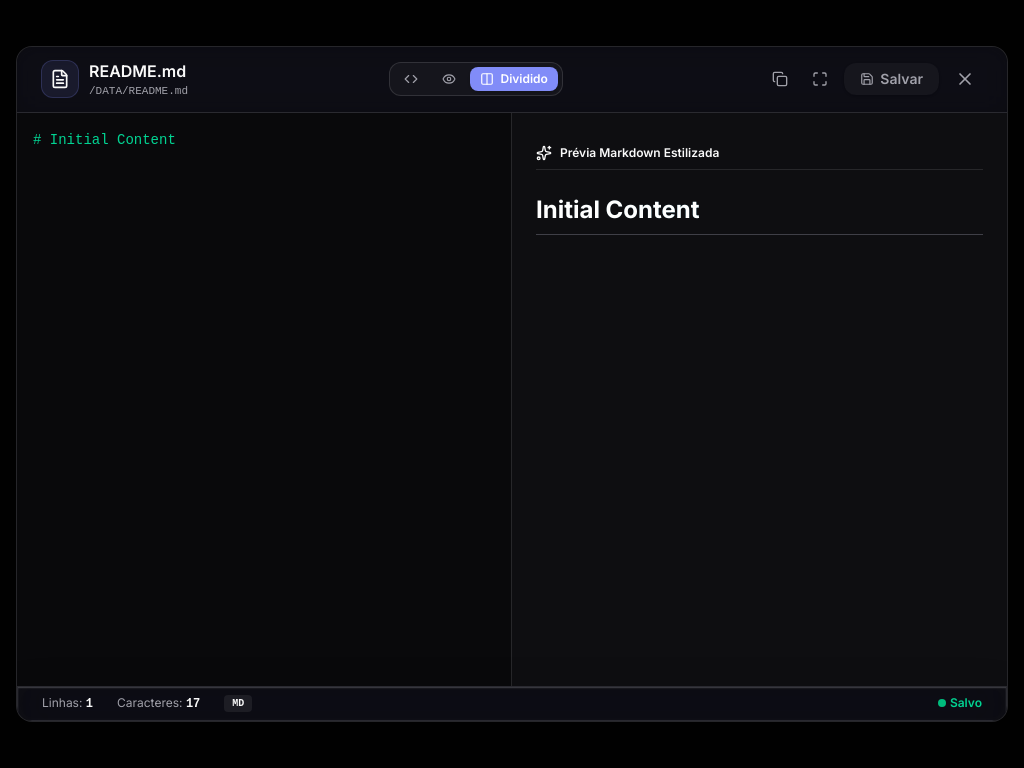
Test case: TextEditorModal Component › handles 412 conflict by opening FileConflictModal and allows reloading from disk
Replace the text in the text box with test id "text-editor-area" with "# My Local Edit". click: [264, 399]
box: [17, 113, 511, 686]
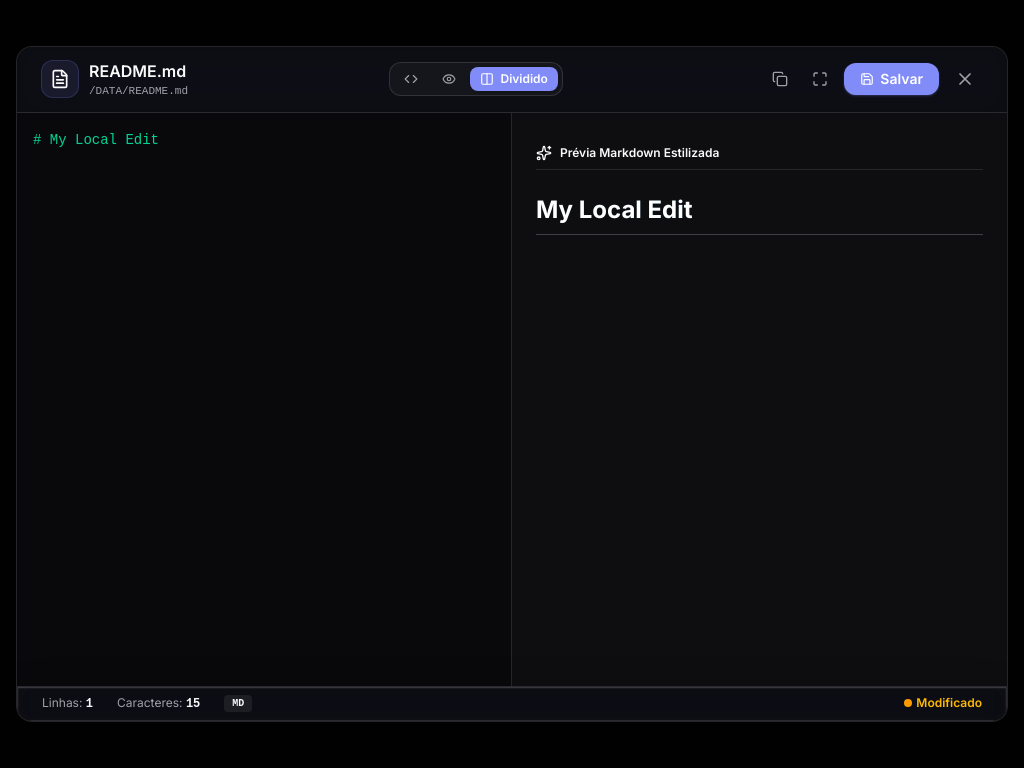
Click the button with test id "save-text-btn". click: [892, 79]
box: [844, 63, 939, 95]
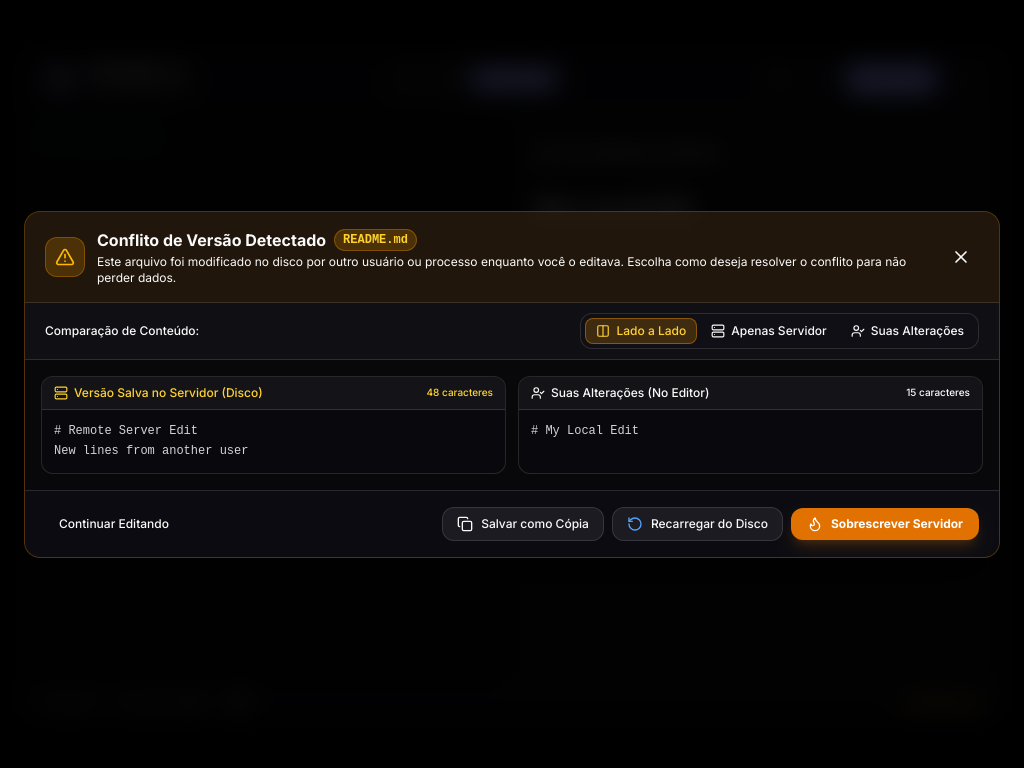
Now the text "Conflito de Versão Detectado" is shown, box [97, 228, 326, 252]
Now the text "# Remote Server Edit New lines from another user" is shown, box [54, 424, 248, 457]
# Click Reload from disk
Click the button "Recarregar do Disco". click: [697, 524]
box: [612, 506, 783, 540]
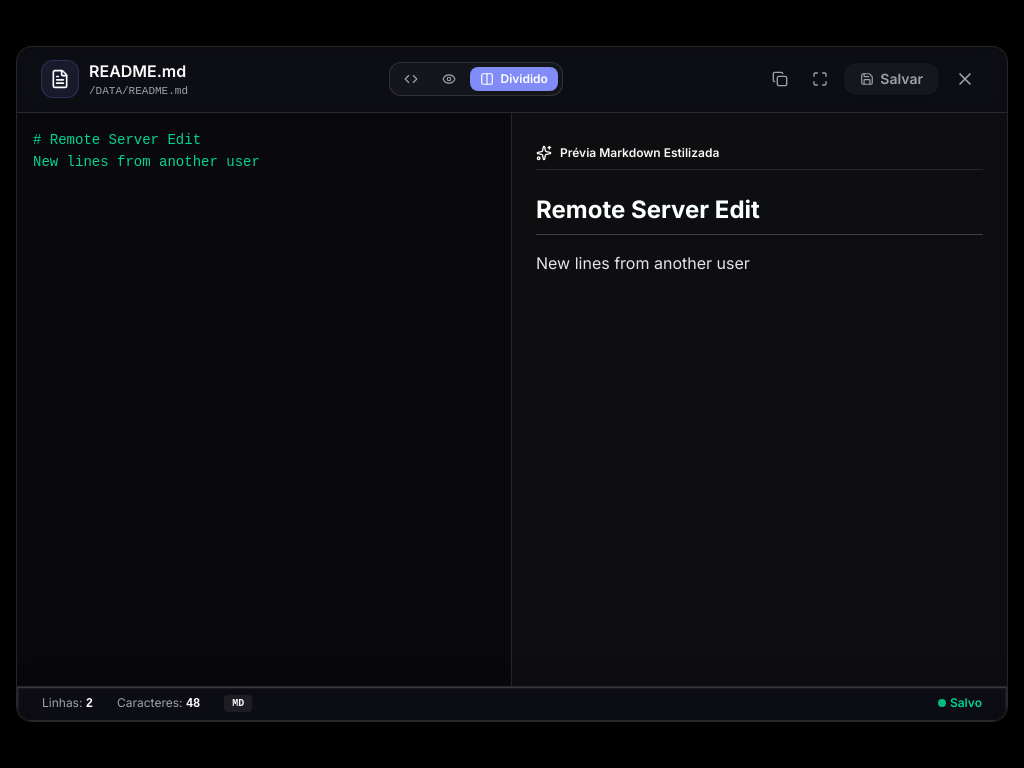
Now the text "Conflito de Versão Detectado" is gone
